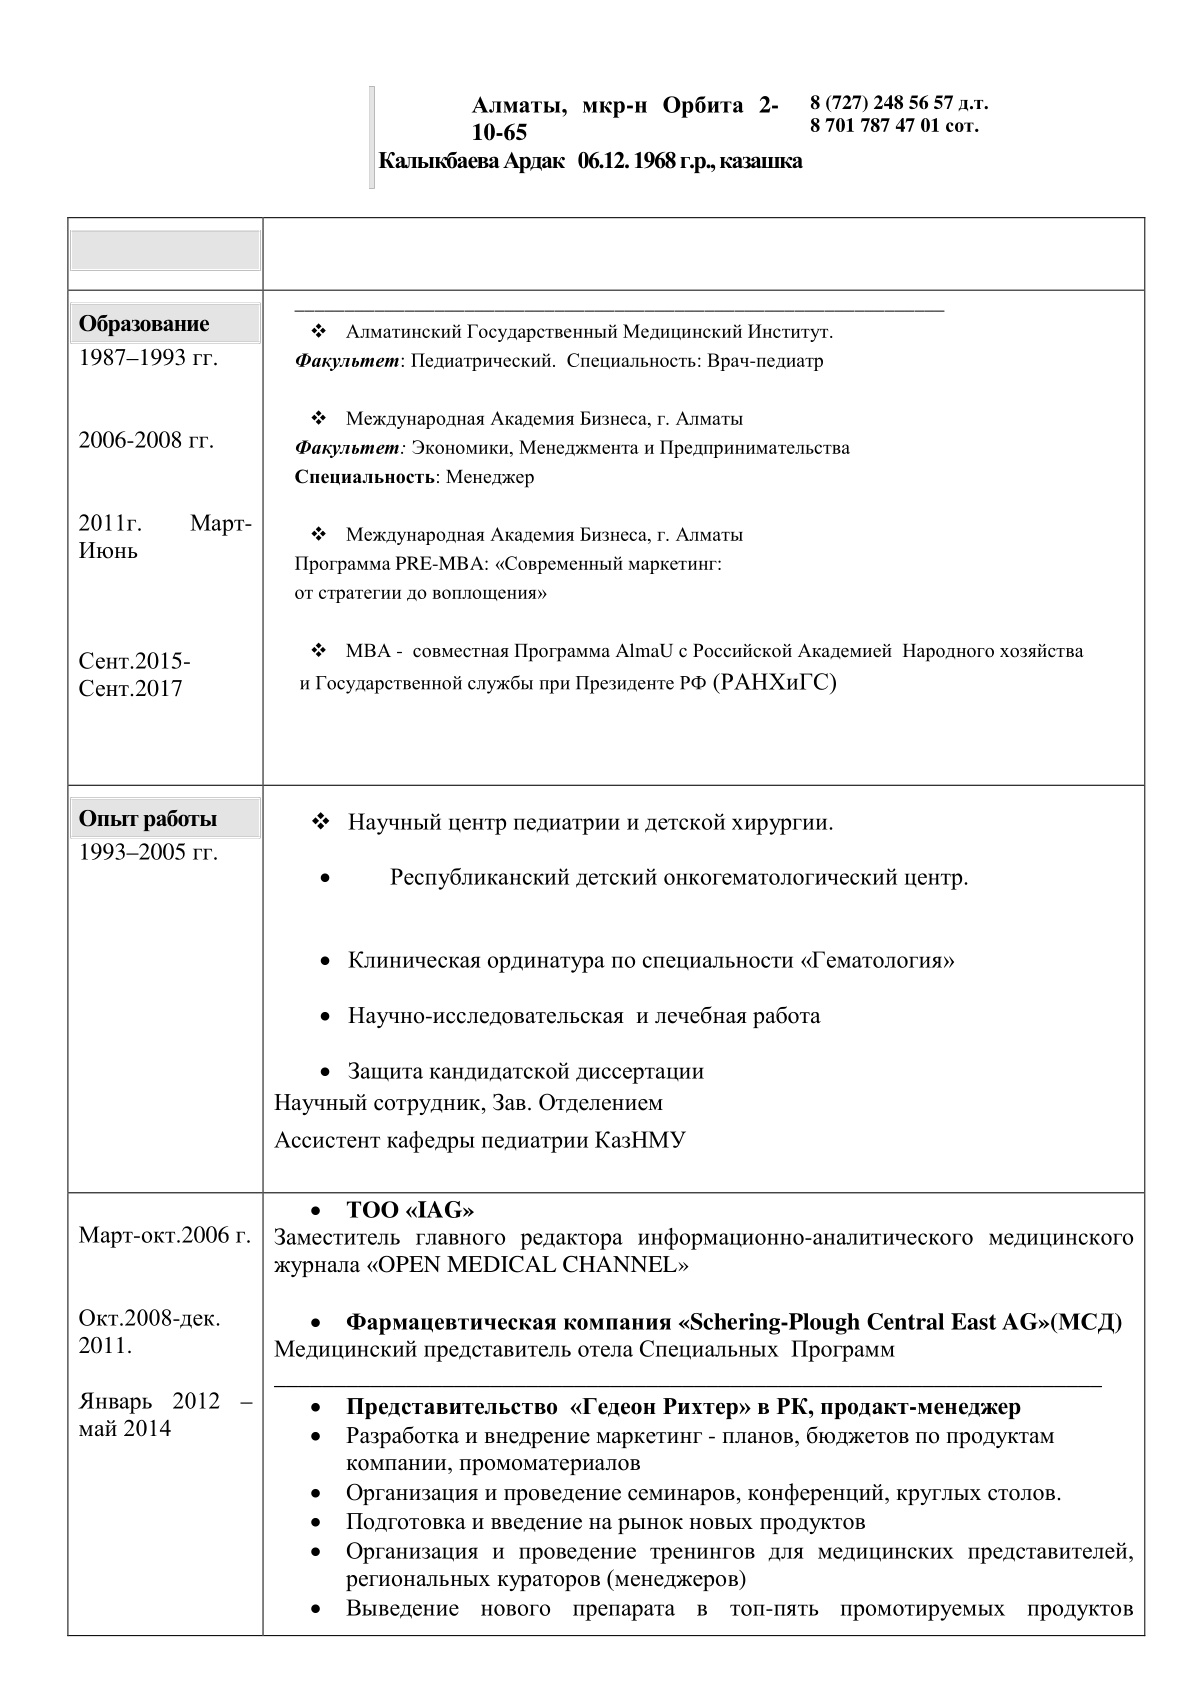merged_cells: (66, 215, 1147, 1638)
